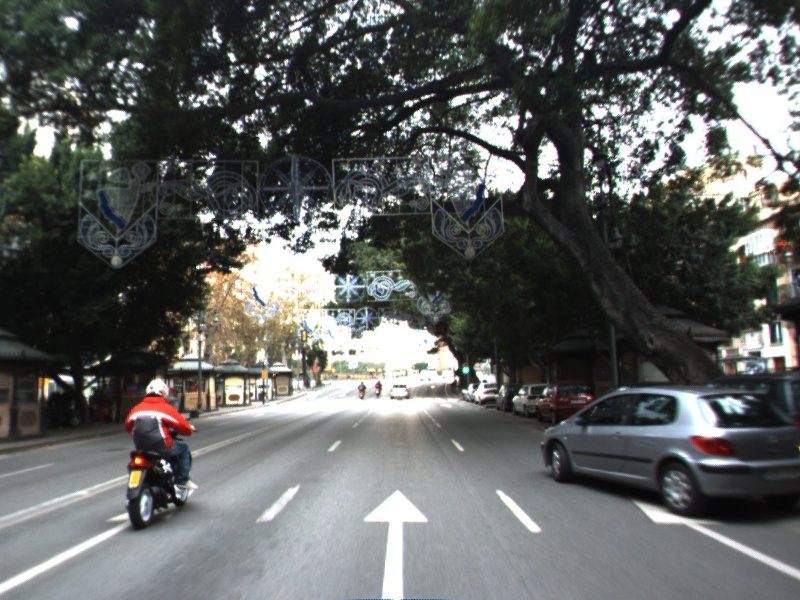STRAIGHT: (1, 482, 199, 595), (623, 491, 800, 582), (359, 485, 432, 600)
